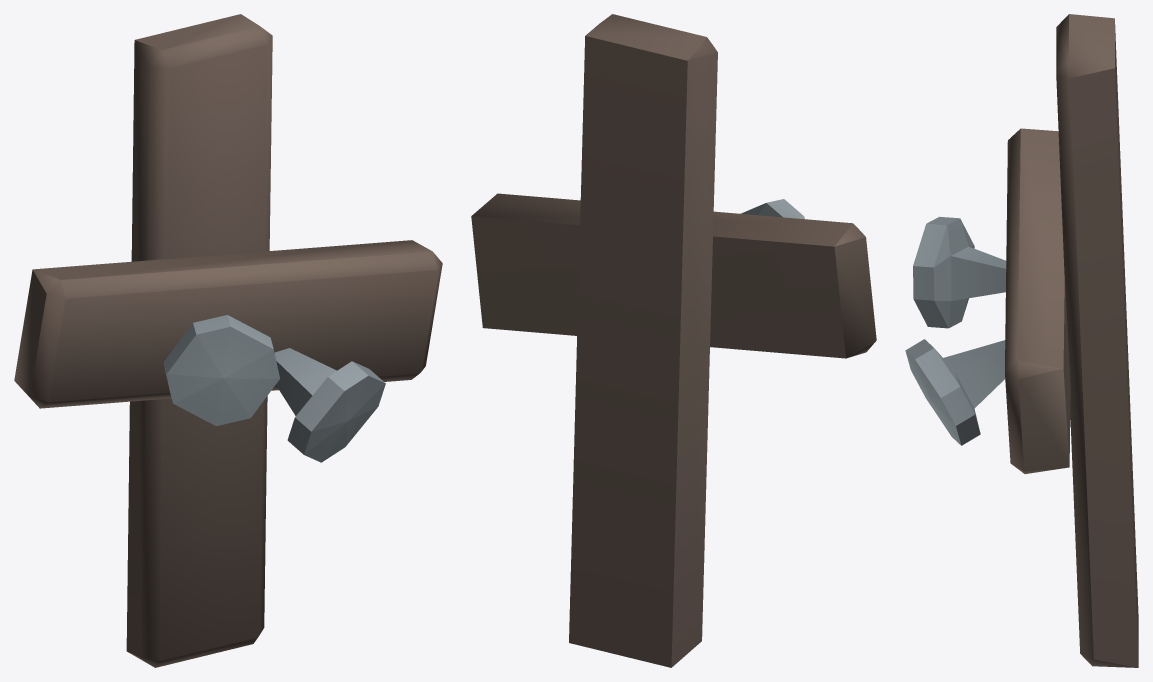
Rendered from d_kaykit_croix_b.glb.
3 views of the same model, side by side, from view 1: azimuth 30°, elevation 25°; view 2: azimuth 150°, elevation 25°; view 3: azimuth 270°, elevation 25° (orthographic). The views are drawn at different scales.
Parts seen in each view (by area): view 1: d_kaykit_croix_b; view 2: d_kaykit_croix_b; view 3: d_kaykit_croix_b.
Boxes of the visible parts, x1,y1,x2,y2 form: d_kaykit_croix_b: (14, 14, 442, 667); d_kaykit_croix_b: (471, 14, 876, 667); d_kaykit_croix_b: (905, 14, 1138, 667).
Size of the model in its own units: 0.8028 by 1.18 by 0.4131.
1 material, 1 textured.
